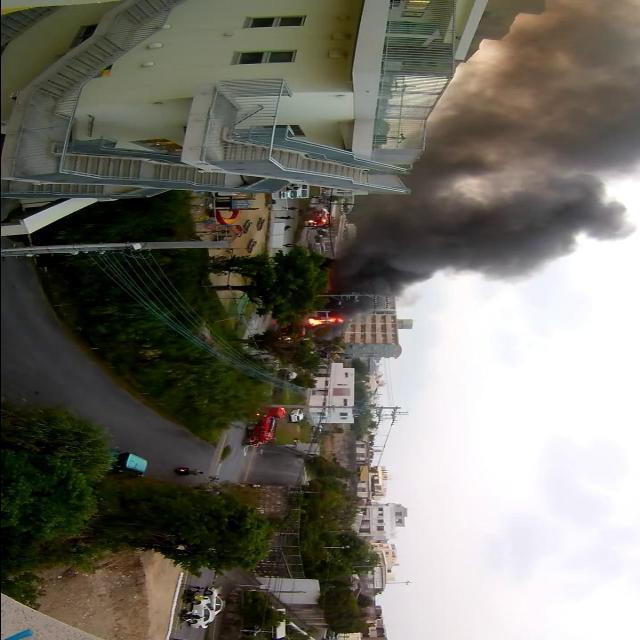Fire: (308, 315, 340, 327)
